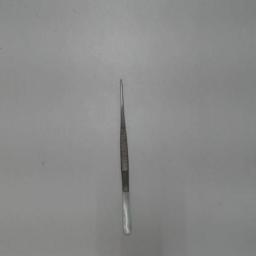Gillies Toothed Dissector: (114, 72, 134, 240)
